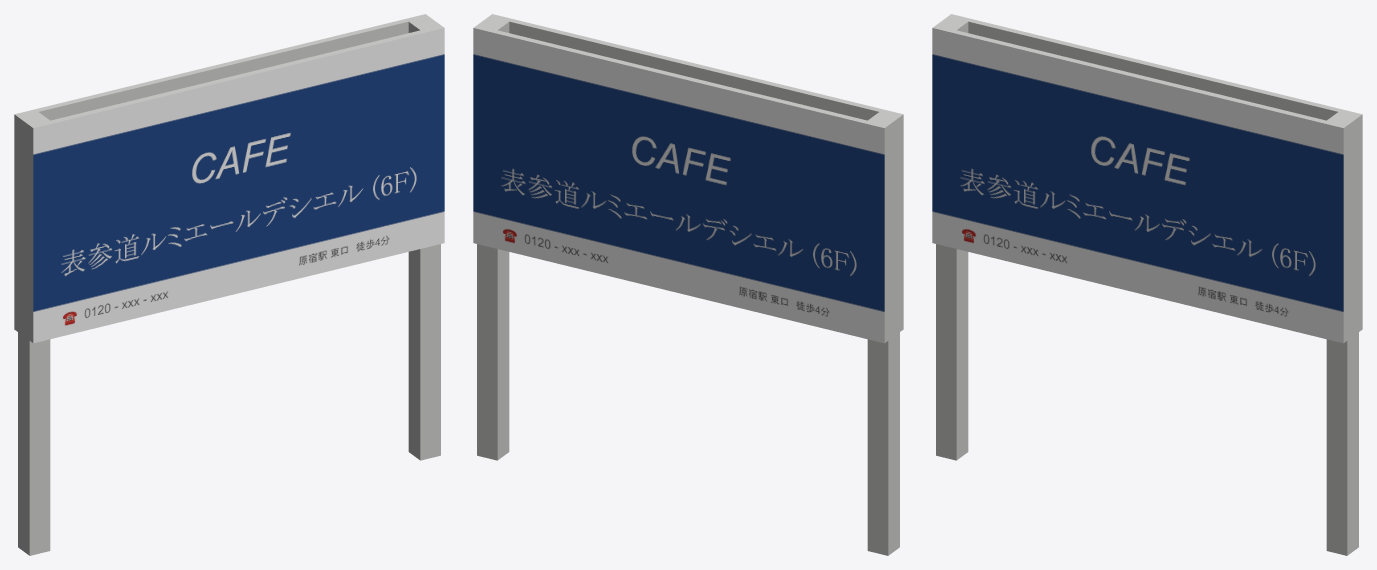
File: Advertisement_AdBoard_01.fbx
The picture shows the model from 3 angles, left to right: view 1: azimuth 30°, elevation 25°; view 2: azimuth 150°, elevation 25°; view 3: azimuth 330°, elevation 25°; orthographic projection.
Parts seen in each view (by area): view 1: Prop_Advertisement_AdBoard_01_Mesh_LOD0; view 2: Prop_Advertisement_AdBoard_01_Mesh_LOD0; view 3: Prop_Advertisement_AdBoard_01_Mesh_LOD0.
Part boxes in pixels (left/top/right/bottom): Prop_Advertisement_AdBoard_01_Mesh_LOD0: left=14, top=14, right=444, bottom=555; Prop_Advertisement_AdBoard_01_Mesh_LOD0: left=473, top=14, right=903, bottom=555; Prop_Advertisement_AdBoard_01_Mesh_LOD0: left=932, top=14, right=1362, bottom=555.
Size of what is drawn, in the model's own units: 2 by 0.16 by 2.
Materials: 2 (1 with a texture image).
